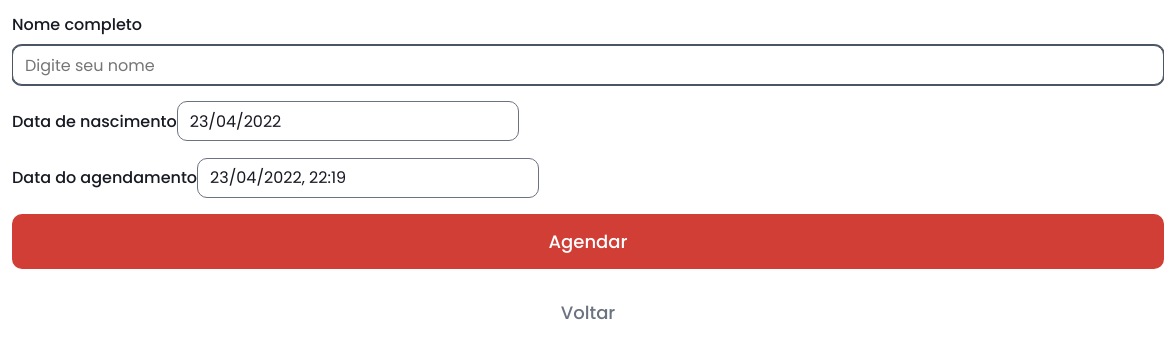
<CreateAppointmentForm /> › should display required error when value is invalid
Click the button "Agendar" at {"x": 588, "y": 242}, box [12,214,1164,269]
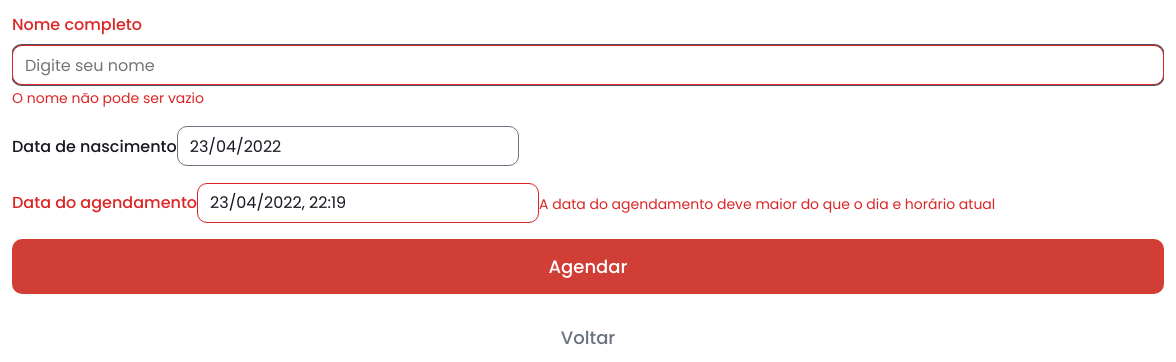
Now the number of messages is 2, box [12,88,204,108]; [539,193,995,213]
